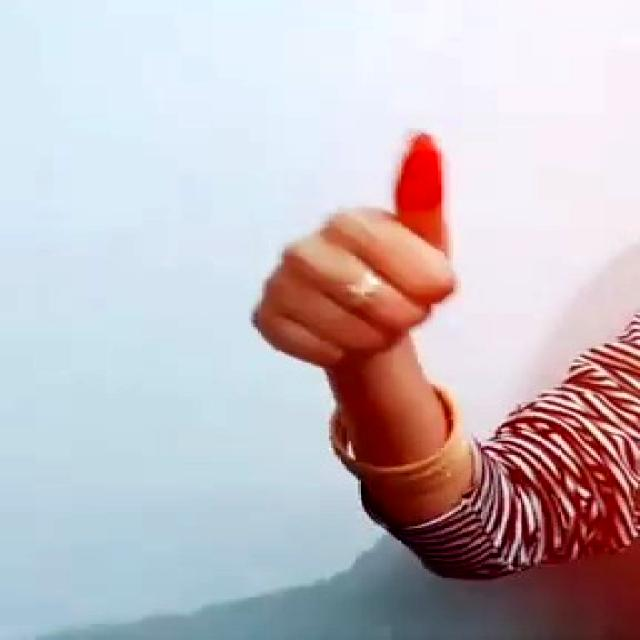Shikhara: (223, 102, 497, 391)
bangle: (295, 404, 483, 491)
